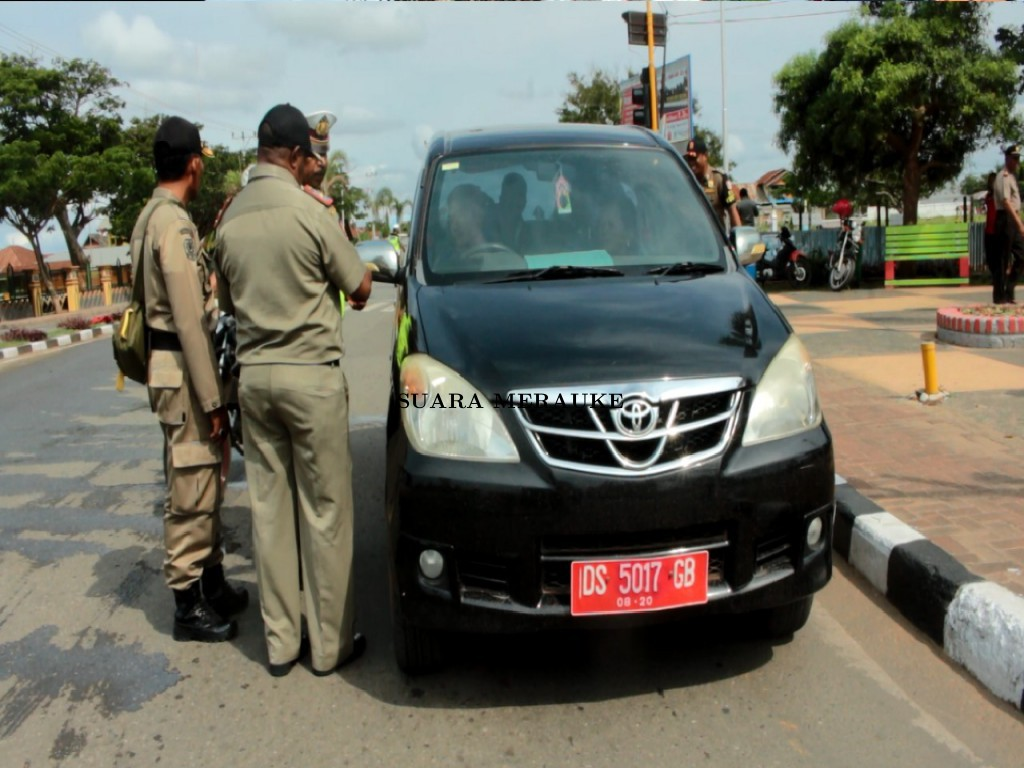plat nomor: (567, 552, 713, 609)
